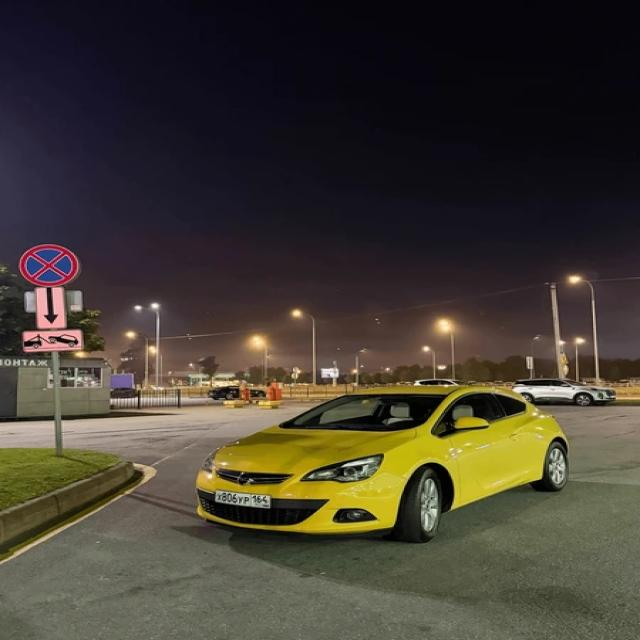opel: (230, 474, 259, 490)
